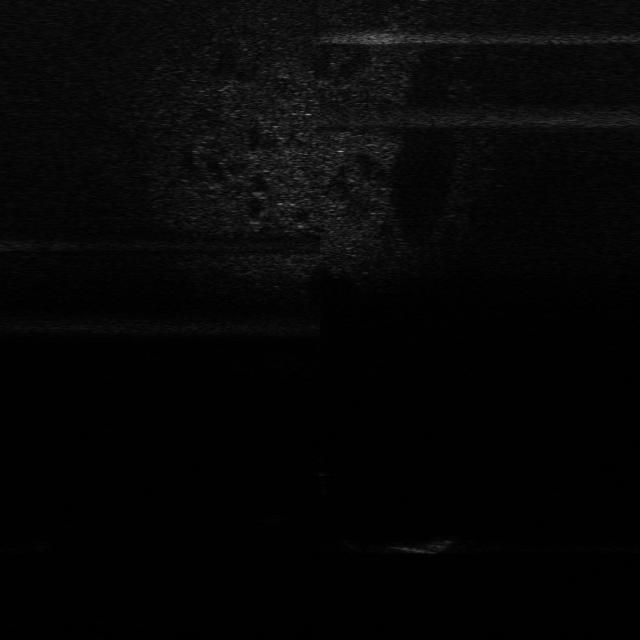metal bucket: (344, 524, 460, 557)
